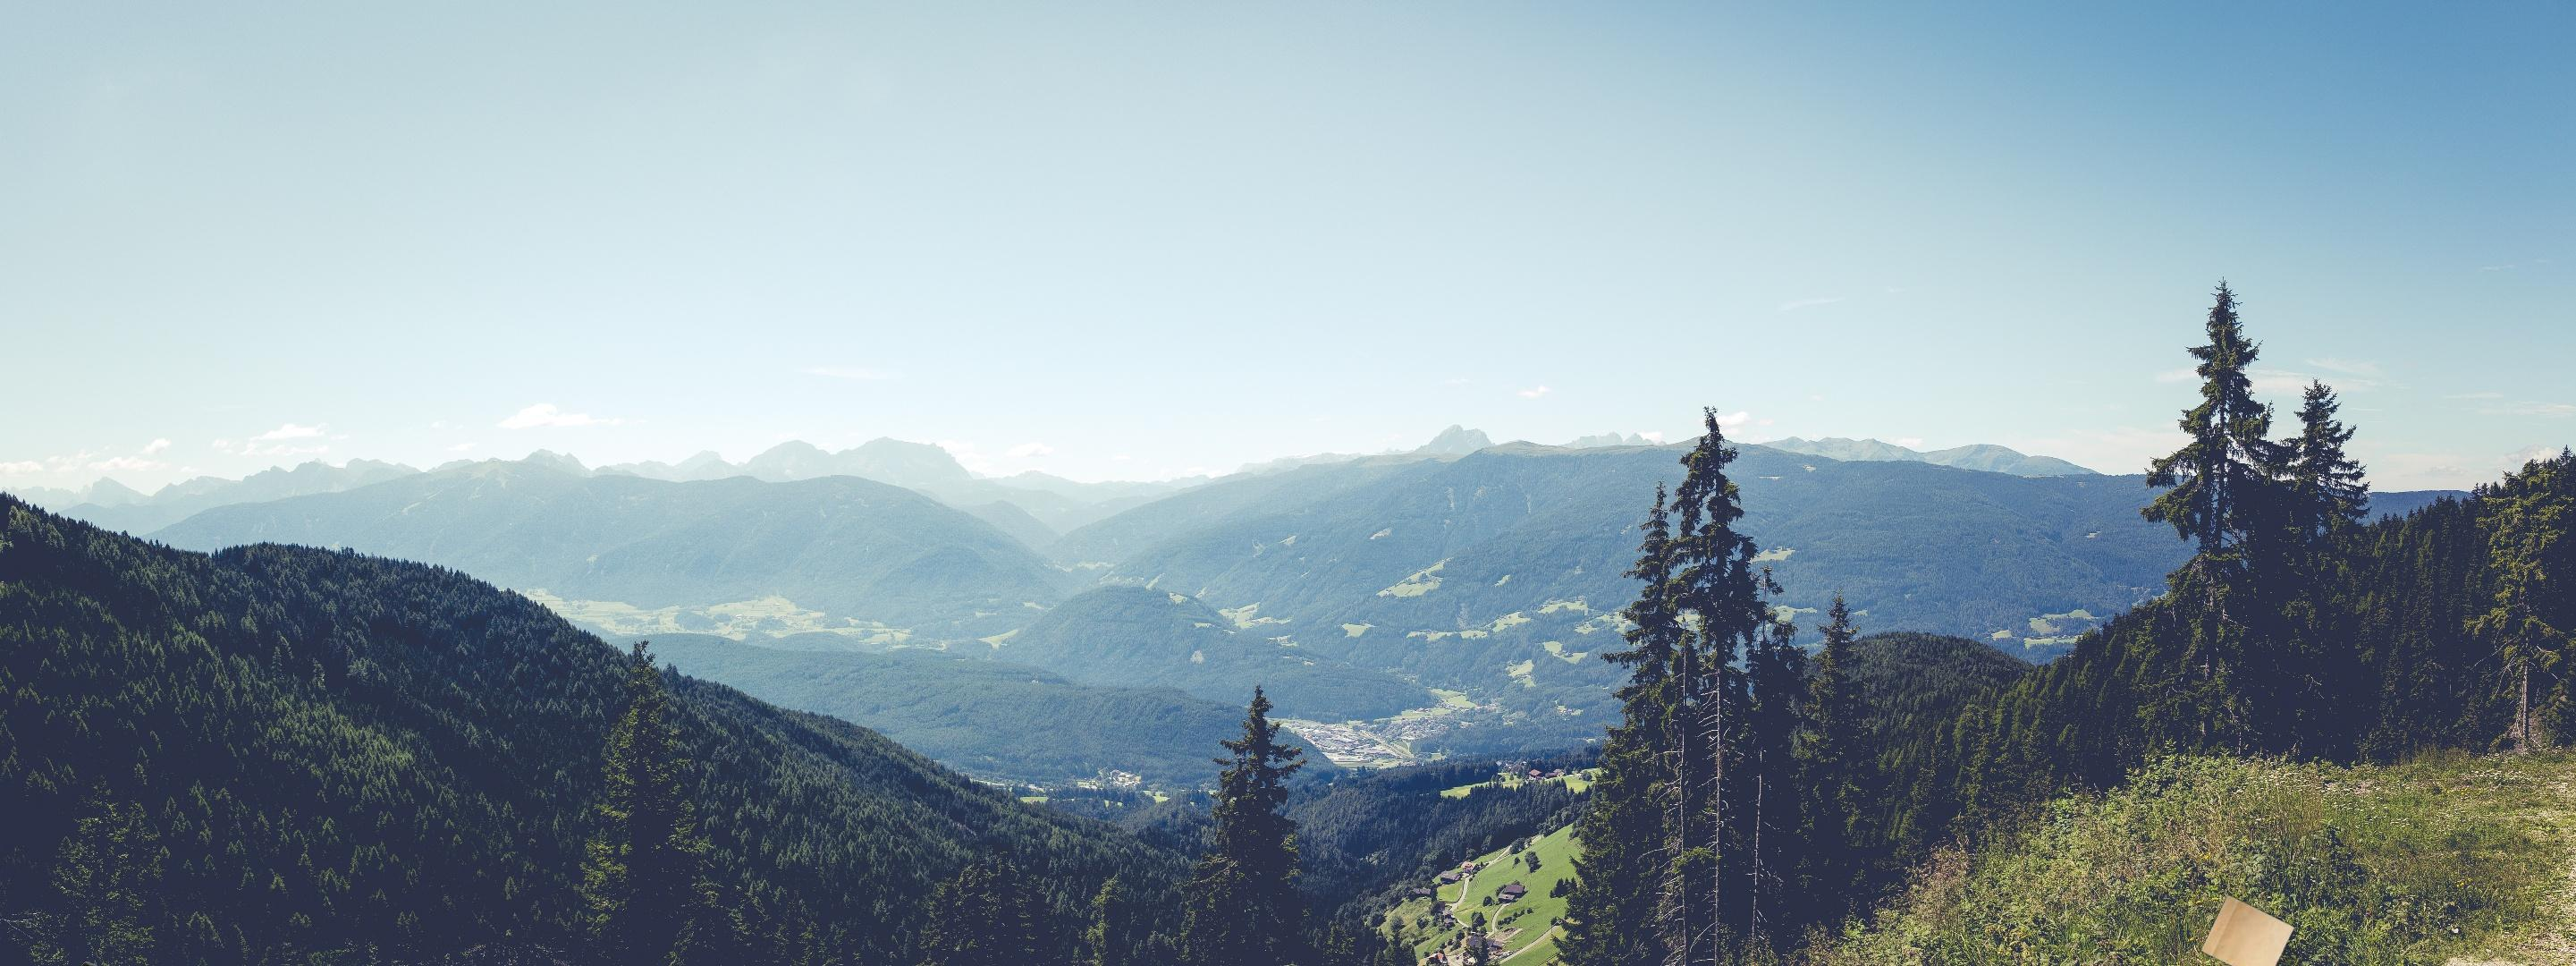battery: (62, 959, 230, 966)
paper-bag: (2198, 894, 2346, 966)
